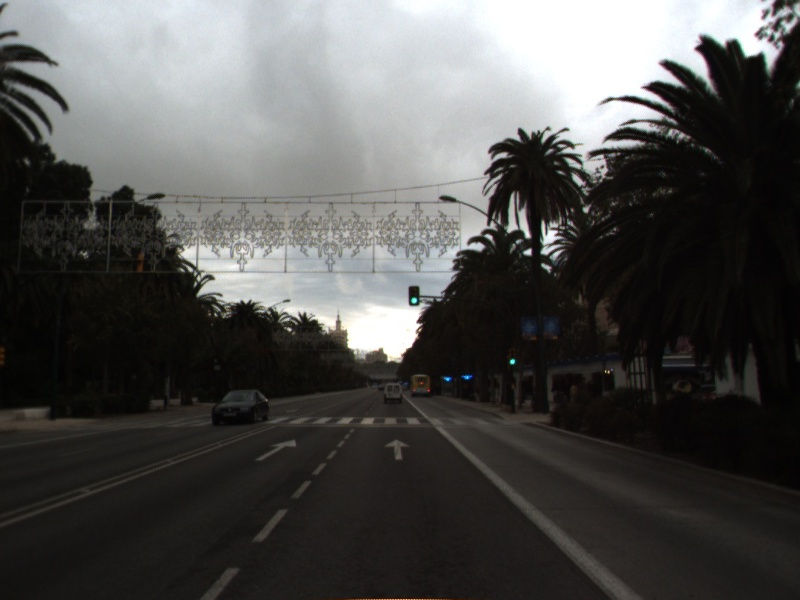STRAIGHT: (254, 437, 299, 463), (383, 437, 412, 461)
